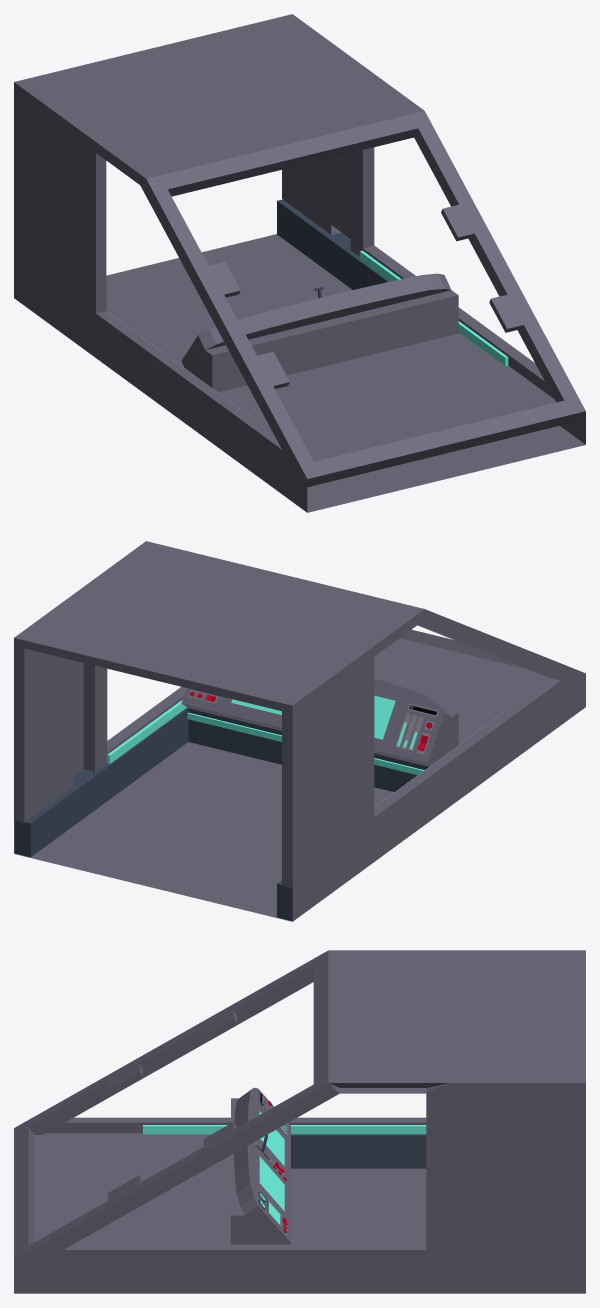
File: Cockpit.glb
3 renders of one model, top to bottom at view 1: azimuth 30°, elevation 25°; view 2: azimuth 150°, elevation 25°; view 3: azimuth 270°, elevation 25°, orthographic. The views are drawn at different scales.
Visible parts, largest first — view 1: Ship, ShipLights.001; view 2: Ship, ShipLights.002, ShipLights.001, Plane; view 3: Ship, ShipLights, Screen.001, Plane.
Boxes of the visible parts, bbox=[...] form: Ship: bbox=[14, 14, 585, 512]; ShipLights.001: bbox=[359, 250, 508, 365]; Ship: bbox=[14, 541, 585, 921]; ShipLights.002: bbox=[187, 712, 424, 774]; ShipLights.001: bbox=[107, 700, 186, 763]; Plane: bbox=[374, 695, 395, 739]; Ship: bbox=[14, 950, 585, 1293]; ShipLights: bbox=[143, 1125, 426, 1134]; Screen.001: bbox=[259, 1156, 284, 1210]; Plane: bbox=[259, 1111, 284, 1165].
Size of the model in its own units: 7.51 by 5.57 by 13.7.
